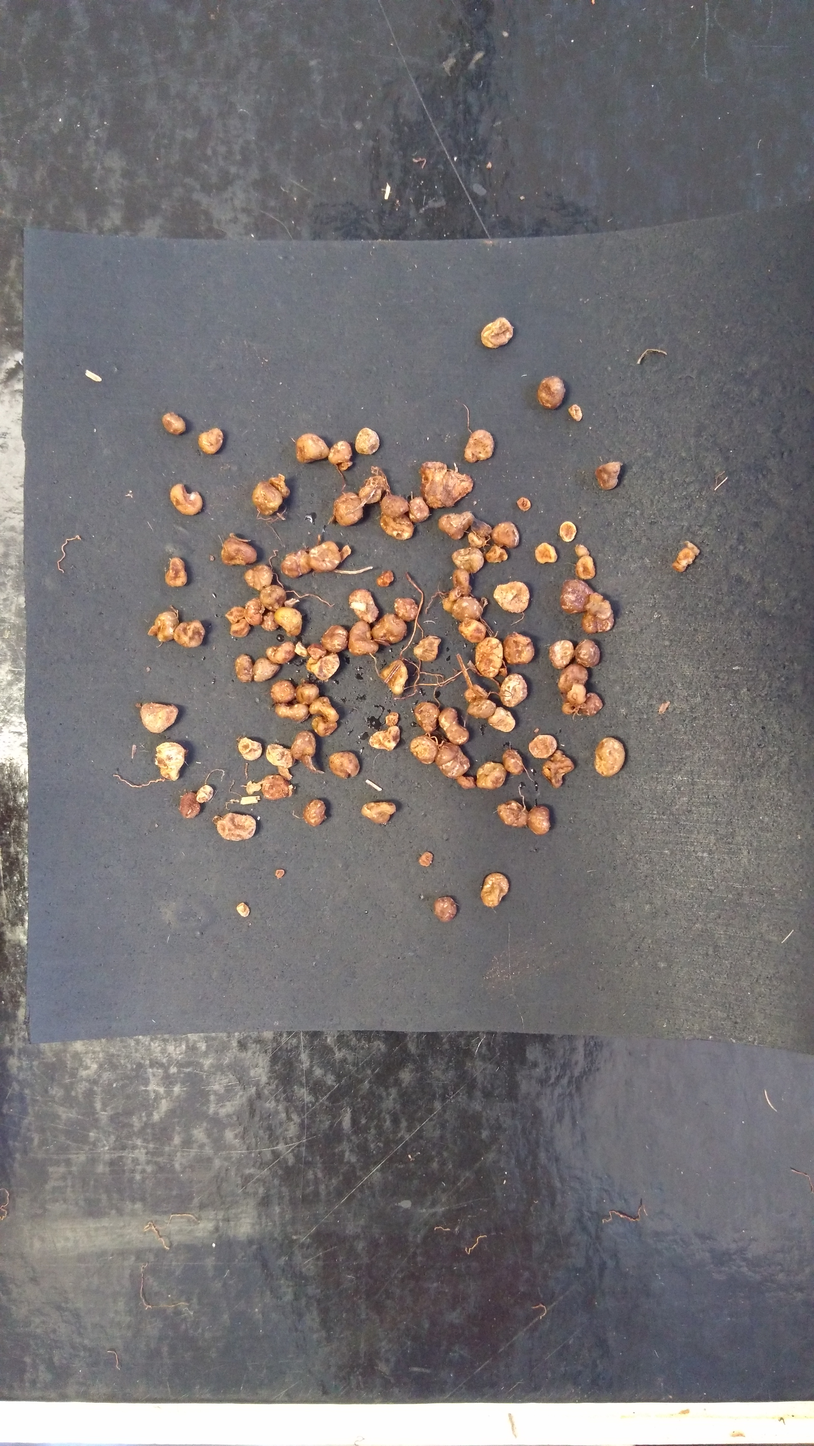nodule: (415, 459, 476, 513), (588, 734, 633, 782), (457, 424, 500, 468), (470, 631, 508, 680), (150, 739, 191, 784), (214, 810, 264, 846), (556, 575, 598, 617), (167, 478, 210, 518), (531, 370, 567, 417), (479, 313, 517, 357), (136, 697, 180, 735), (493, 578, 534, 618), (343, 617, 380, 661), (434, 742, 474, 782), (375, 654, 411, 698), (215, 534, 263, 567), (540, 748, 577, 790), (290, 429, 333, 465), (478, 869, 517, 908), (331, 489, 368, 530), (248, 479, 285, 520), (306, 539, 348, 575), (436, 704, 470, 748), (404, 733, 443, 771), (497, 672, 532, 713), (500, 630, 537, 668), (345, 587, 381, 626), (170, 617, 210, 652), (359, 796, 404, 827), (370, 612, 410, 646), (488, 516, 525, 552), (495, 796, 532, 832), (147, 609, 181, 646), (573, 636, 610, 670), (669, 540, 704, 575), (556, 662, 592, 696), (326, 438, 359, 475), (163, 553, 196, 590), (378, 513, 417, 544), (474, 757, 507, 793), (353, 422, 385, 459), (436, 510, 474, 541), (523, 801, 554, 839), (196, 423, 227, 461), (279, 546, 312, 581), (594, 456, 626, 492), (582, 588, 618, 620), (328, 750, 365, 781), (545, 635, 576, 672), (411, 634, 445, 667), (259, 772, 295, 803), (450, 594, 486, 625), (305, 652, 342, 682), (485, 703, 517, 737), (412, 700, 443, 735), (450, 546, 487, 575), (271, 607, 305, 638), (367, 725, 403, 754), (357, 473, 388, 506), (242, 563, 277, 592), (305, 695, 341, 723), (431, 892, 462, 924), (265, 741, 298, 771), (526, 733, 561, 761), (573, 550, 601, 584), (302, 795, 330, 829), (465, 697, 501, 723), (390, 593, 421, 623), (251, 655, 282, 685), (158, 409, 189, 439), (530, 539, 559, 571), (320, 622, 348, 655), (267, 678, 298, 707), (233, 735, 265, 763), (177, 789, 204, 822), (265, 640, 297, 667), (500, 746, 526, 779), (578, 690, 607, 719), (290, 730, 318, 760), (378, 491, 410, 517), (232, 651, 255, 687), (242, 594, 266, 628), (451, 565, 475, 599), (456, 617, 486, 644), (309, 715, 340, 741), (291, 681, 321, 707), (272, 702, 309, 723), (257, 584, 287, 609), (266, 472, 292, 500), (408, 495, 432, 524), (484, 544, 513, 567), (566, 401, 591, 427), (556, 519, 581, 545), (469, 514, 492, 541), (565, 681, 588, 707), (374, 569, 400, 591), (511, 494, 538, 515), (194, 781, 218, 804), (228, 618, 253, 640), (257, 610, 279, 635), (222, 604, 247, 625), (305, 642, 328, 662), (417, 848, 438, 869), (439, 595, 458, 614), (572, 542, 593, 559), (234, 899, 250, 919), (559, 700, 575, 716), (385, 710, 401, 726), (463, 686, 477, 704), (274, 867, 286, 879)
